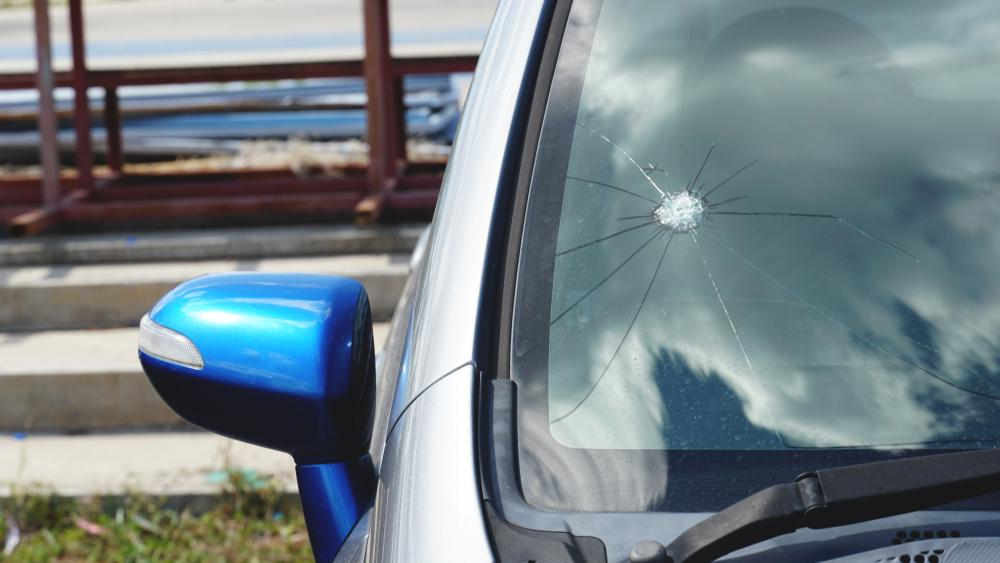glass shatter: (510, 0, 1000, 511)
